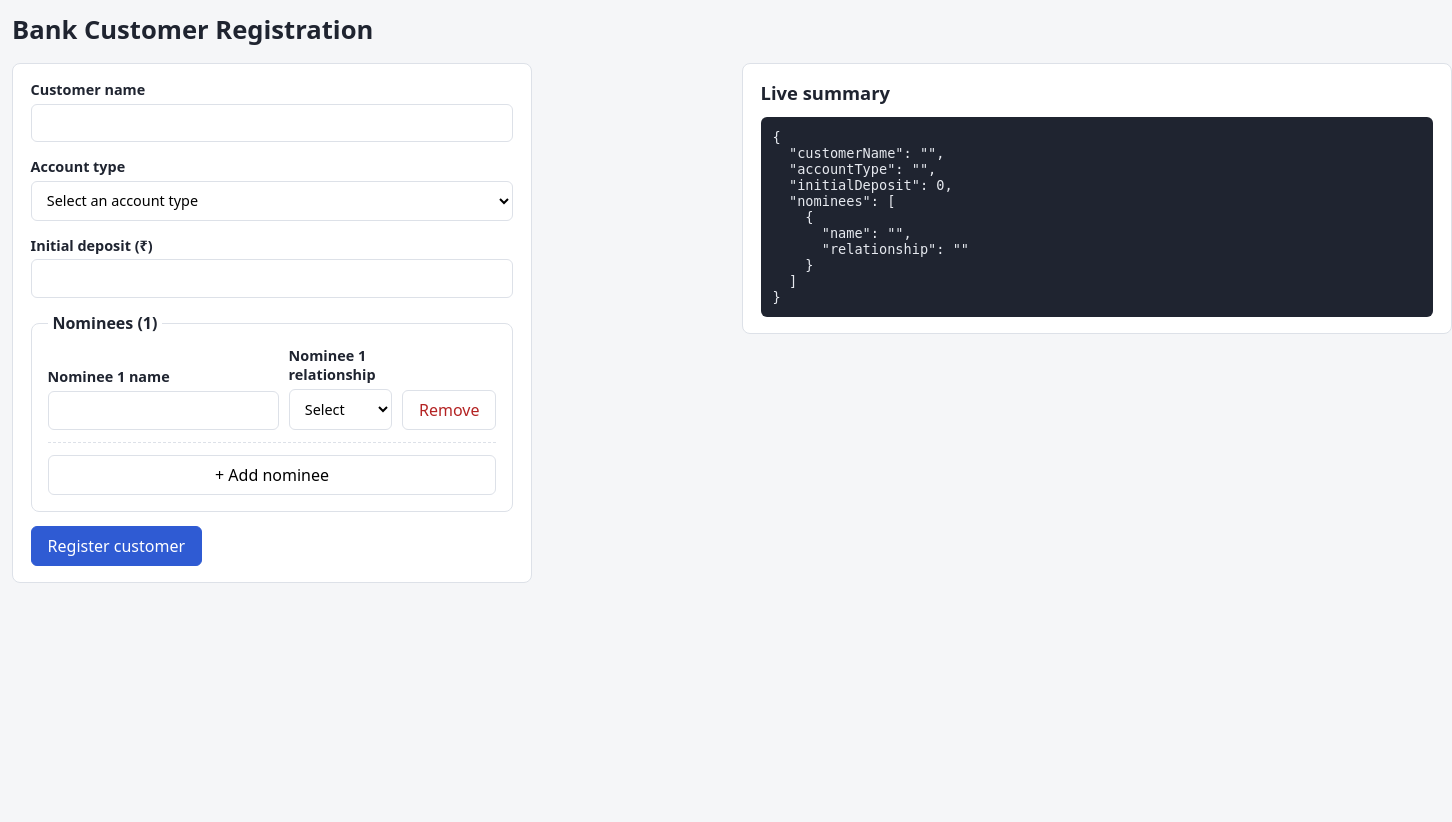
Dynamic bank account form › shows Savings or Current fields depending on the account type
This screenshot has width=1452, height=822.
Expected: the field labelled "Business name" is not shown
Step 1. Select "Savings" in the dropdown labelled "Account type" → (272, 201), box [31, 181, 513, 221]
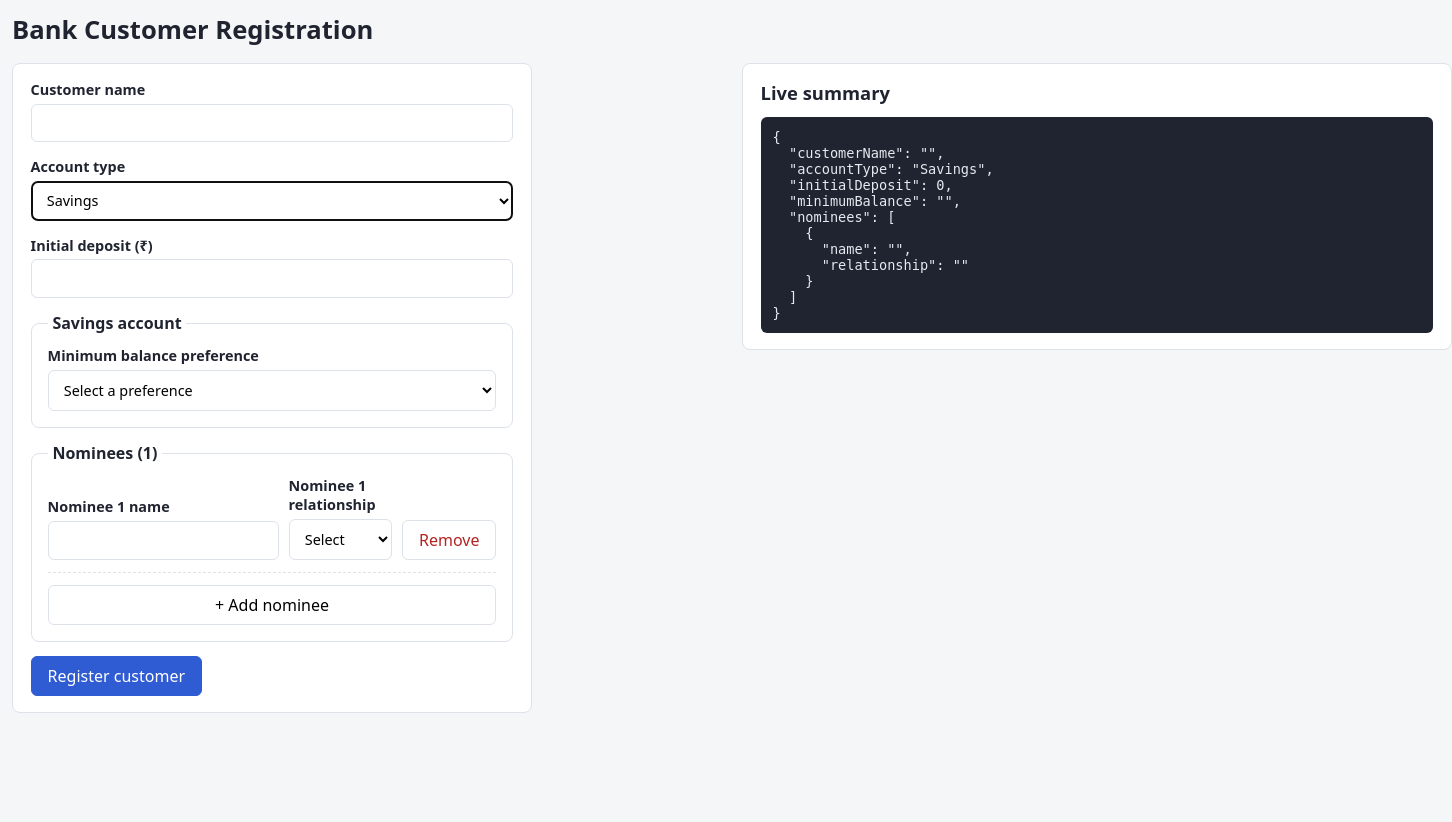
Expected: the field labelled "Business name" is not shown
Result: the dropdown labelled "Minimum balance preference" is shown at [48, 370, 496, 411]
Step 2. Select "Current" in the dropdown labelled "Account type" → (272, 201), box [31, 181, 513, 221]
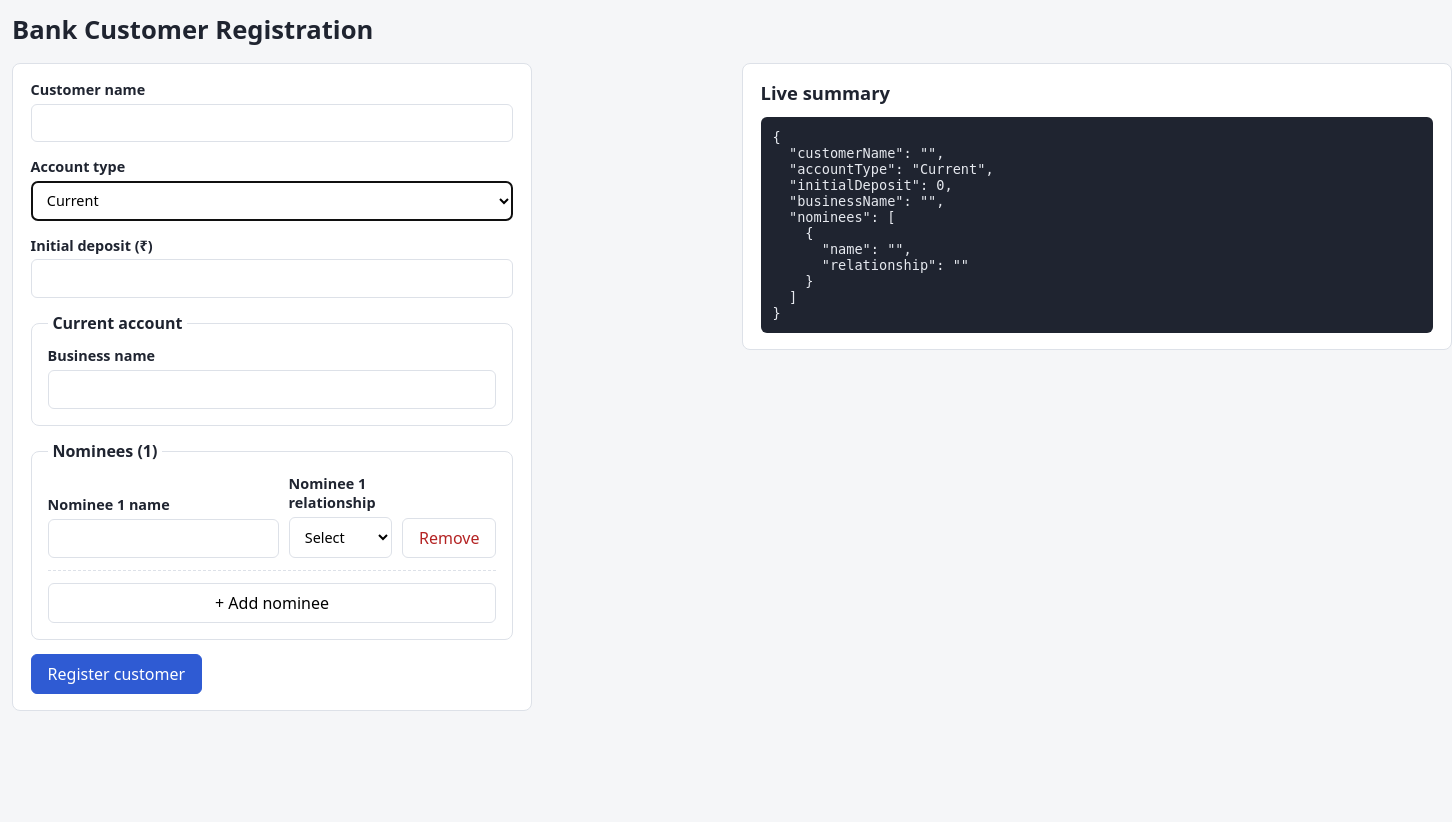
Result: the field labelled "Business name" is shown at [48, 370, 496, 409]
Result: the label labelled "Minimum balance preference" is gone
